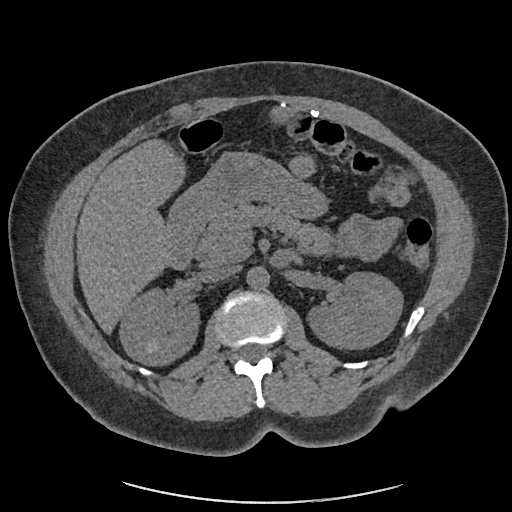Lesion: (142, 337, 163, 356)
